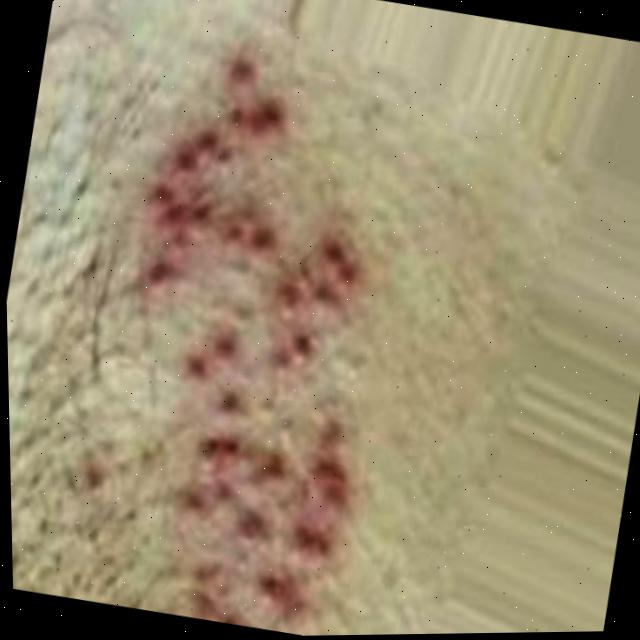Shingles: (79, 39, 433, 639)
